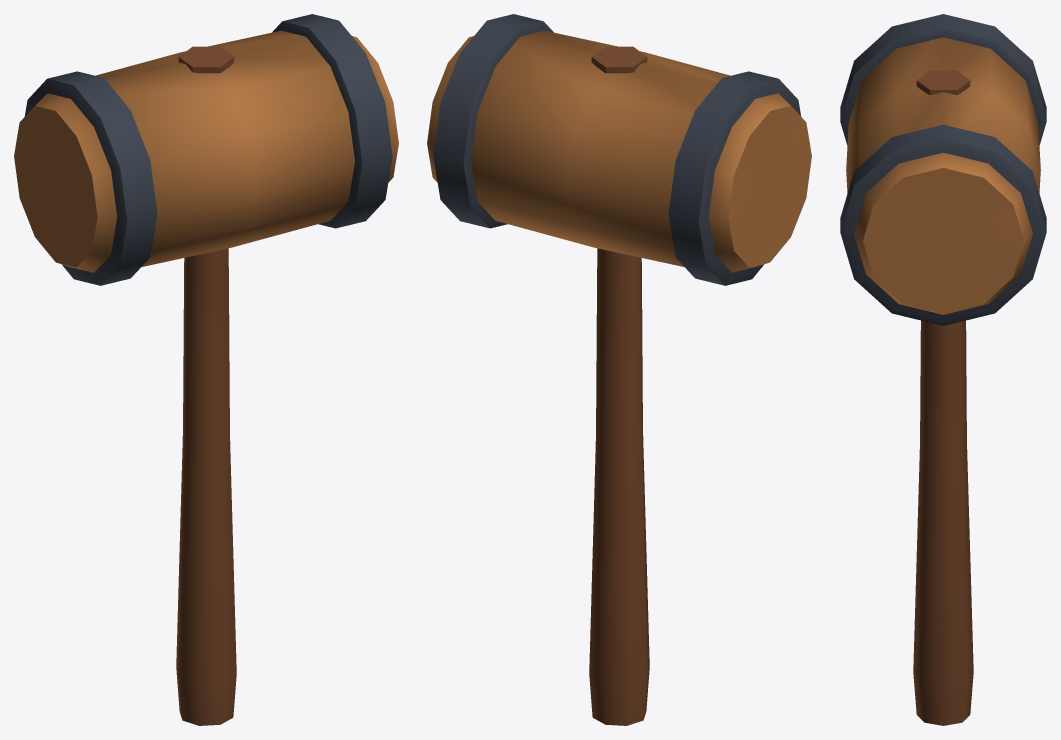
File: hammer.glb
The picture shows the model from 3 angles, left to right: view 1: azimuth 30°, elevation 25°; view 2: azimuth 150°, elevation 25°; view 3: azimuth 270°, elevation 25°; orthographic projection. The views are drawn at different scales.
Visible parts, largest first — view 1: Hammer Wood, Hammer Dark wood, Hammer Iron; view 2: Hammer Wood, Hammer Dark wood, Hammer Iron; view 3: Hammer Wood, Hammer Dark wood, Hammer Iron.
Part boxes in pixels (x1,y1,x2,y2): Hammer Wood: [14, 30, 398, 272]; Hammer Dark wood: [176, 46, 236, 725]; Hammer Iron: [24, 14, 392, 285]; Hammer Wood: [427, 30, 811, 272]; Hammer Dark wood: [589, 46, 649, 725]; Hammer Iron: [433, 14, 801, 285]; Hammer Wood: [846, 37, 1040, 314]; Hammer Dark wood: [913, 70, 973, 725]; Hammer Iron: [840, 14, 1046, 325].
Bounding box in the file's own units: 0.2 × 0.4215 × 0.123.
